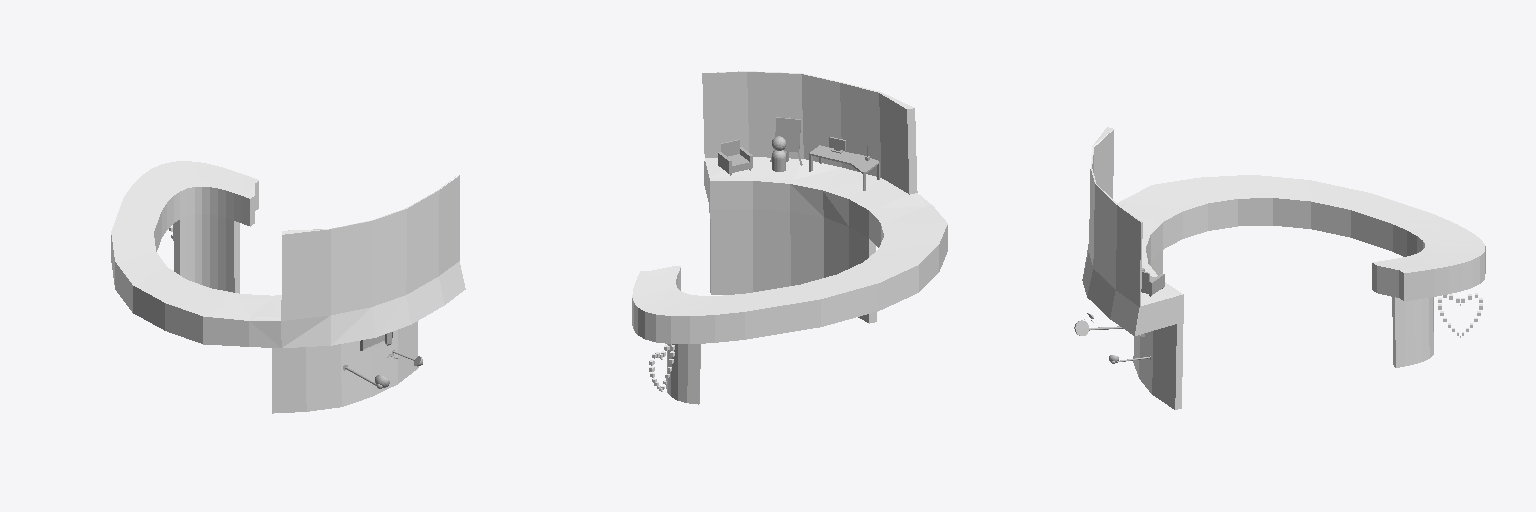
Rendered from stage.obj.
3 renders of one model, left to right at view 1: azimuth 30°, elevation 25°; view 2: azimuth 150°, elevation 25°; view 3: azimuth 270°, elevation 25°, orthographic.
Visible parts, largest first — view 1: logo_stage_CUBezierCurve.001; view 2: logo_stage_CUBezierCurve.001, About_section_Sphere.002; view 3: logo_stage_CUBezierCurve.001.
Part boxes in pixels (bbox=[...]): logo_stage_CUBezierCurve.001: bbox=[111, 161, 465, 413]; logo_stage_CUBezierCurve.001: bbox=[632, 71, 947, 404]; About_section_Sphere.002: bbox=[718, 117, 879, 190]; logo_stage_CUBezierCurve.001: bbox=[1082, 127, 1485, 409].
Size of the model in its own units: 42.48 by 29.81 by 55.15.